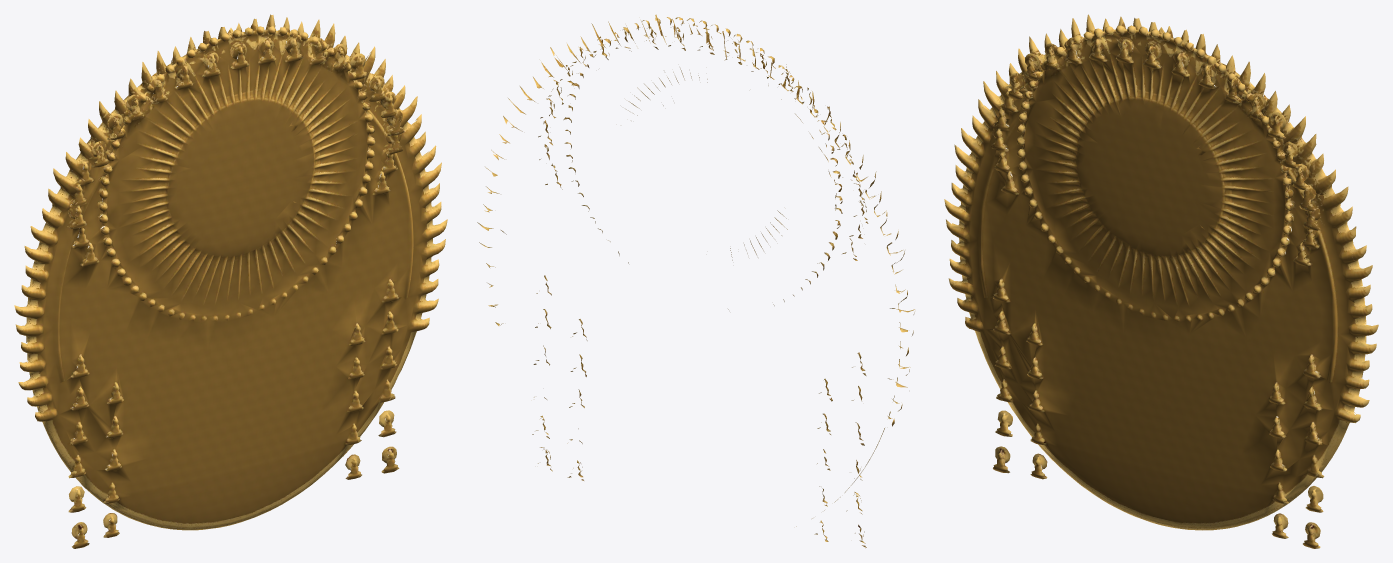
Rendered from hoaquang.glb.
3 renders of one model, left to right at view 1: azimuth 30°, elevation 25°; view 2: azimuth 150°, elevation 25°; view 3: azimuth 330°, elevation 25°, orthographic.
Visible parts, largest first — view 1: hoaquang; view 2: hoaquang; view 3: hoaquang.
Boxes of the visible parts, bbox=[...] form: hoaquang: bbox=[14, 14, 447, 548]; hoaquang: bbox=[477, 14, 914, 547]; hoaquang: bbox=[944, 14, 1378, 548].
Bounding box in the file's own units: 5.6 × 6.19 × 0.3186.
Materials: 1 (1 with a texture image).
